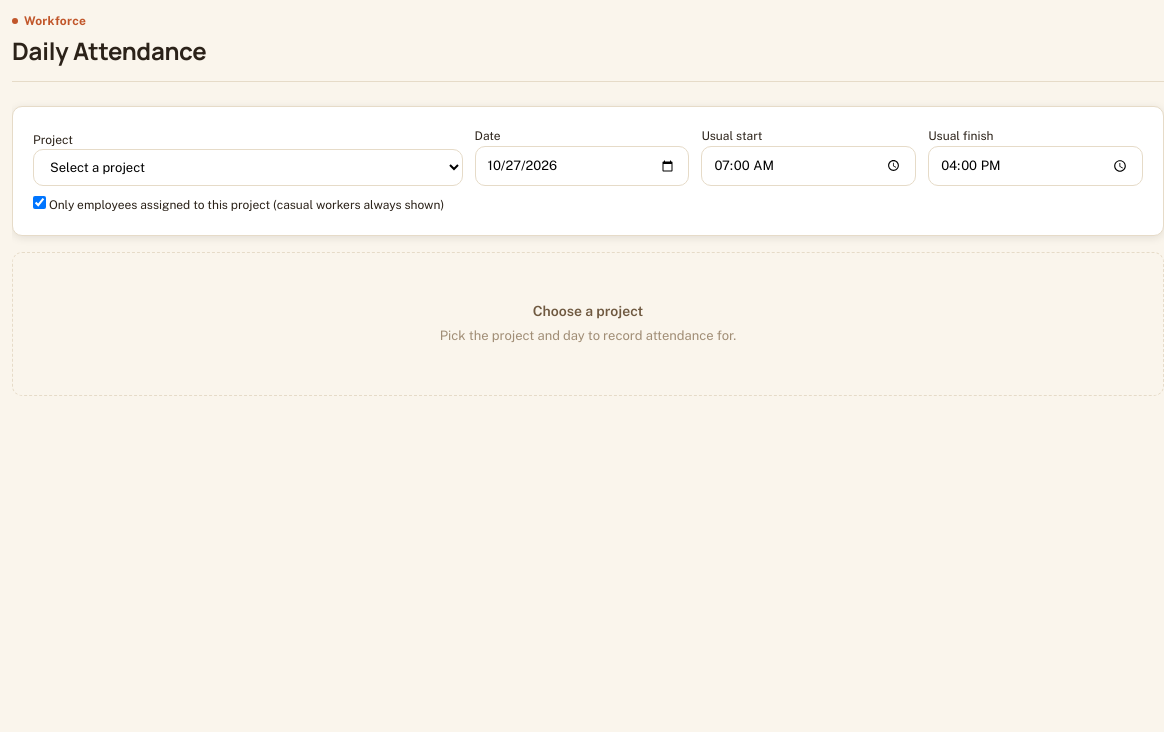
Test: AttendancePage › reports rows the server rejected
Step 1. Select "Lekki Tower" in the dropdown labelled "Project" → (248, 168), box [33,149,463,186]
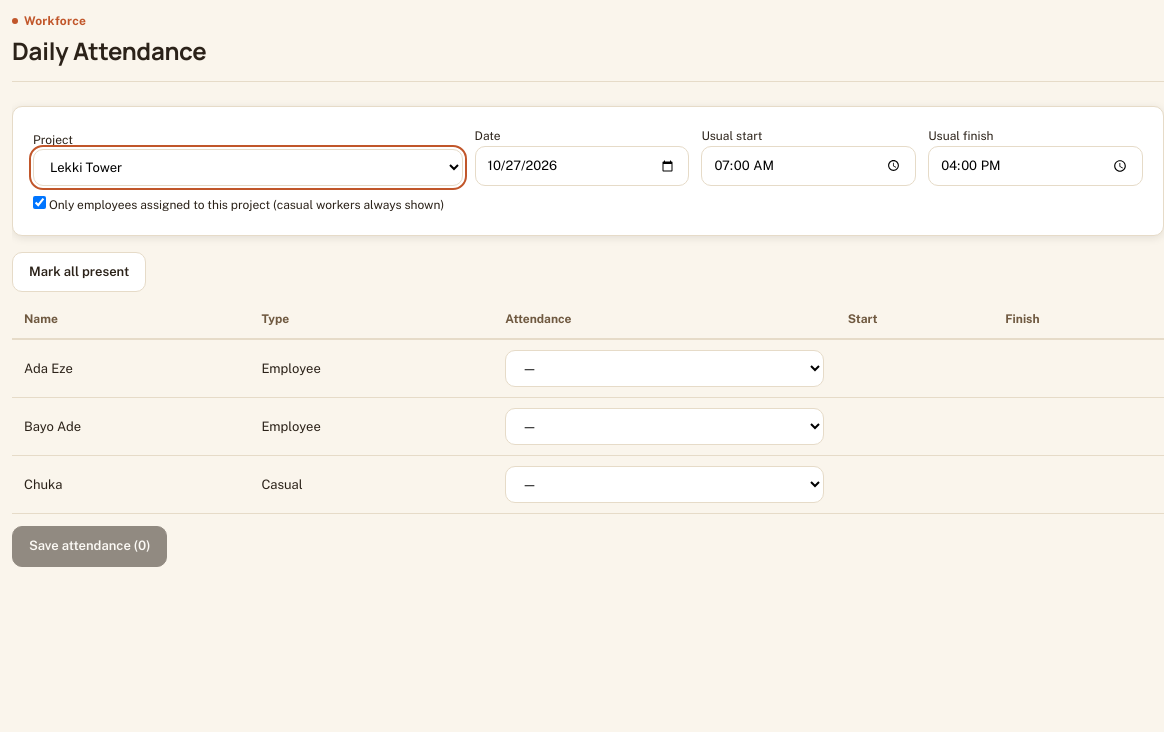
Check: the text "Ada Eze" is shown, box [12,340,249,398]
Step 2. Click the button "Mark all present" → (79, 272), box [12,252,146,292]
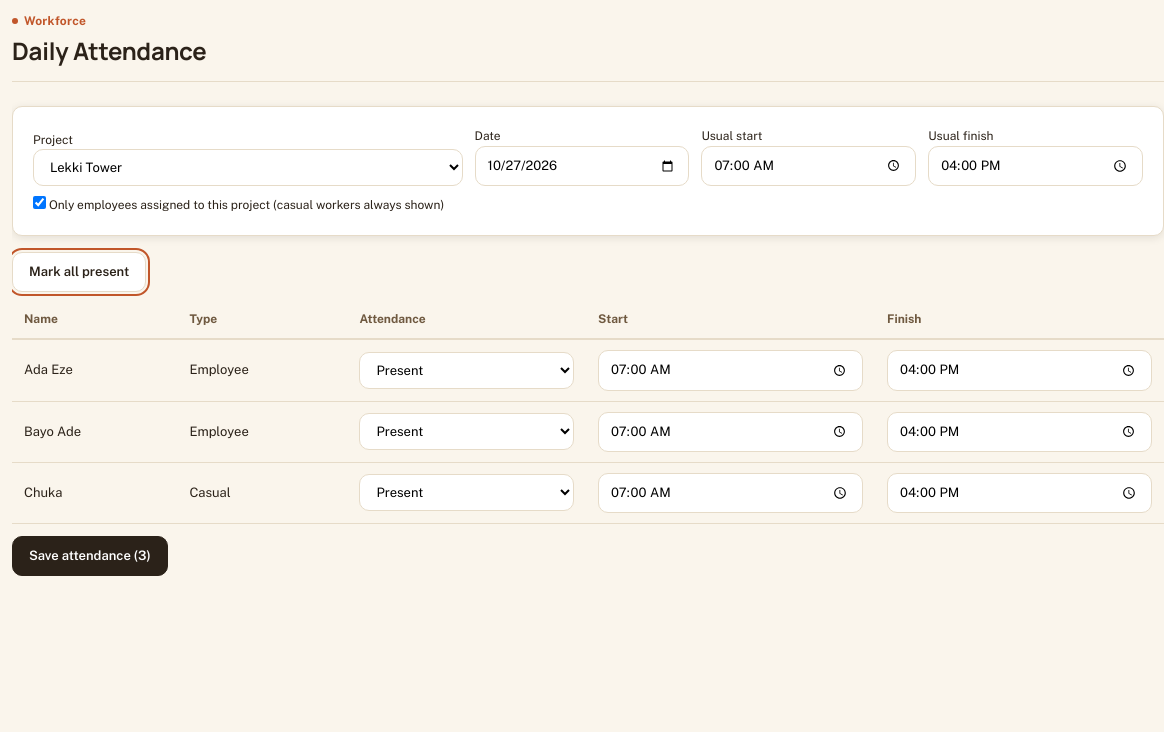
Step 3. Click the button "Save attendance (3)" → (90, 556), box [12,536,168,576]
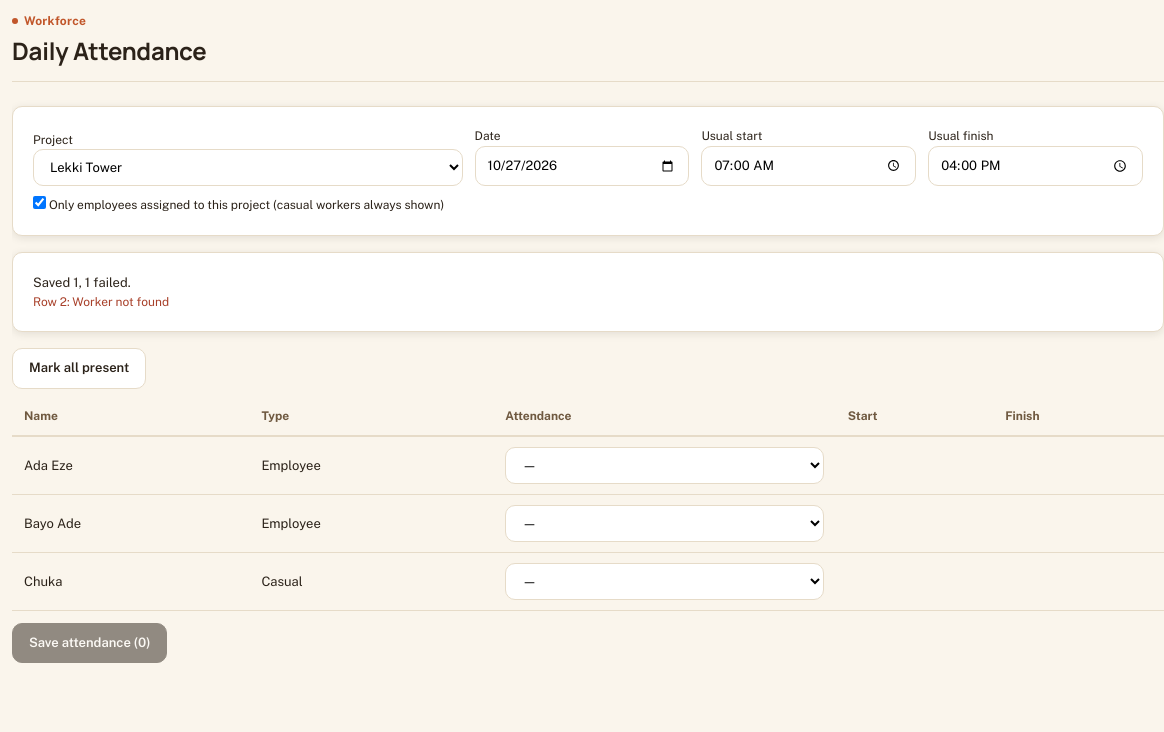
Check: the text "Saved 1, 1 failed." is shown, box [33,275,131,290]
Check: the text "Row 2: Worker not found" is shown, box [33,295,169,309]
